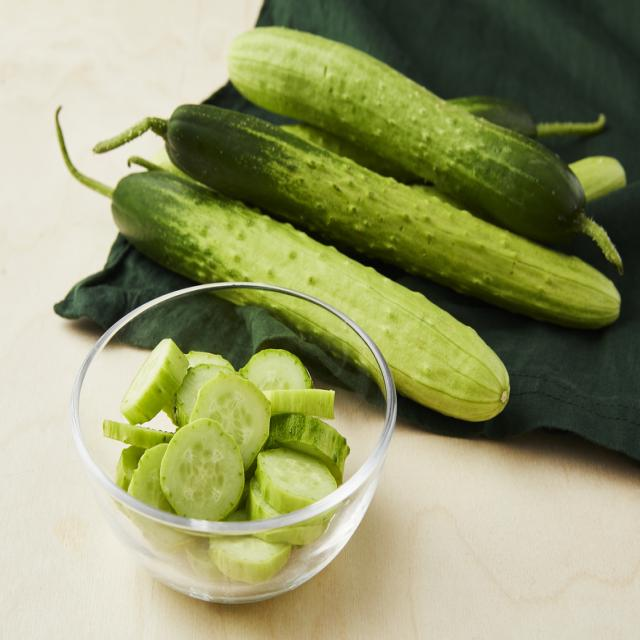cucumber: (65, 106, 640, 433), (197, 18, 582, 268), (60, 316, 374, 602)
